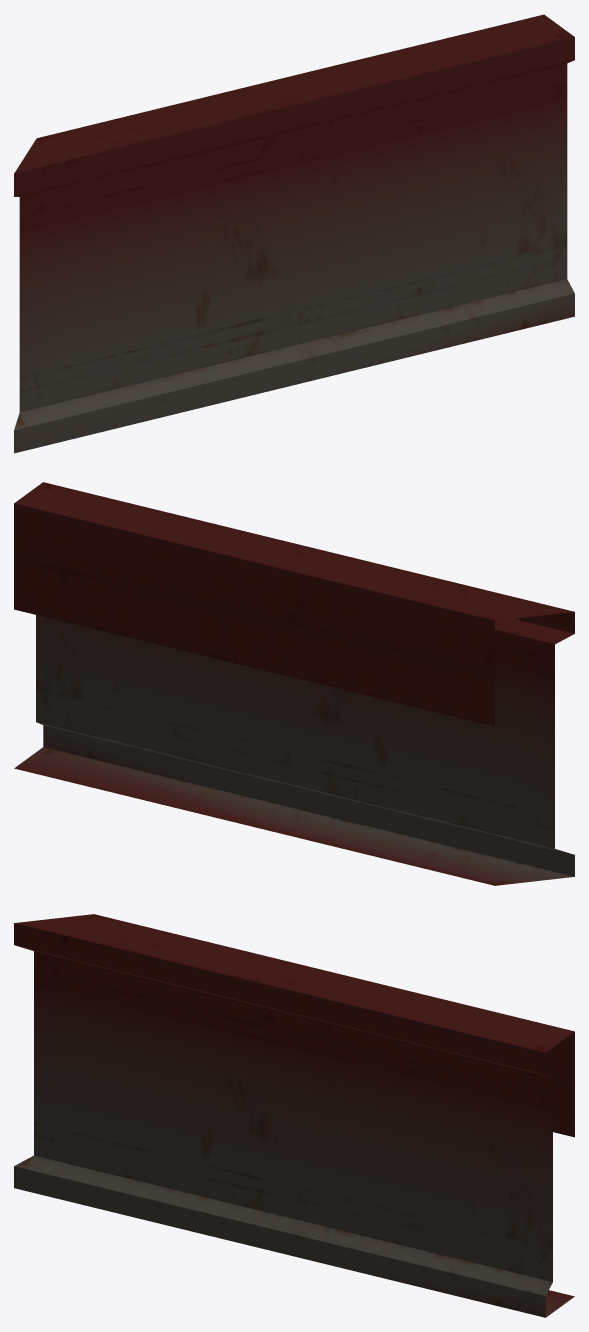
The model's file is cornice_metal_l.glb.
3 renders of one model, top to bottom at view 1: azimuth 30°, elevation 25°; view 2: azimuth 150°, elevation 25°; view 3: azimuth 330°, elevation 25°, orthographic. The views are drawn at different scales.
Parts seen in each view (by area): view 1: Cornice_Metal_L; view 2: Cornice_Metal_L; view 3: Cornice_Metal_L.
Part boxes in pixels (x1,y1,x2,y2): Cornice_Metal_L: (14,14,574,453); Cornice_Metal_L: (14,482,574,885); Cornice_Metal_L: (14,914,574,1317).
Bounding box in the file's own units: 2.1 × 1 × 0.2.
Materials: 1 (1 with a texture image).
